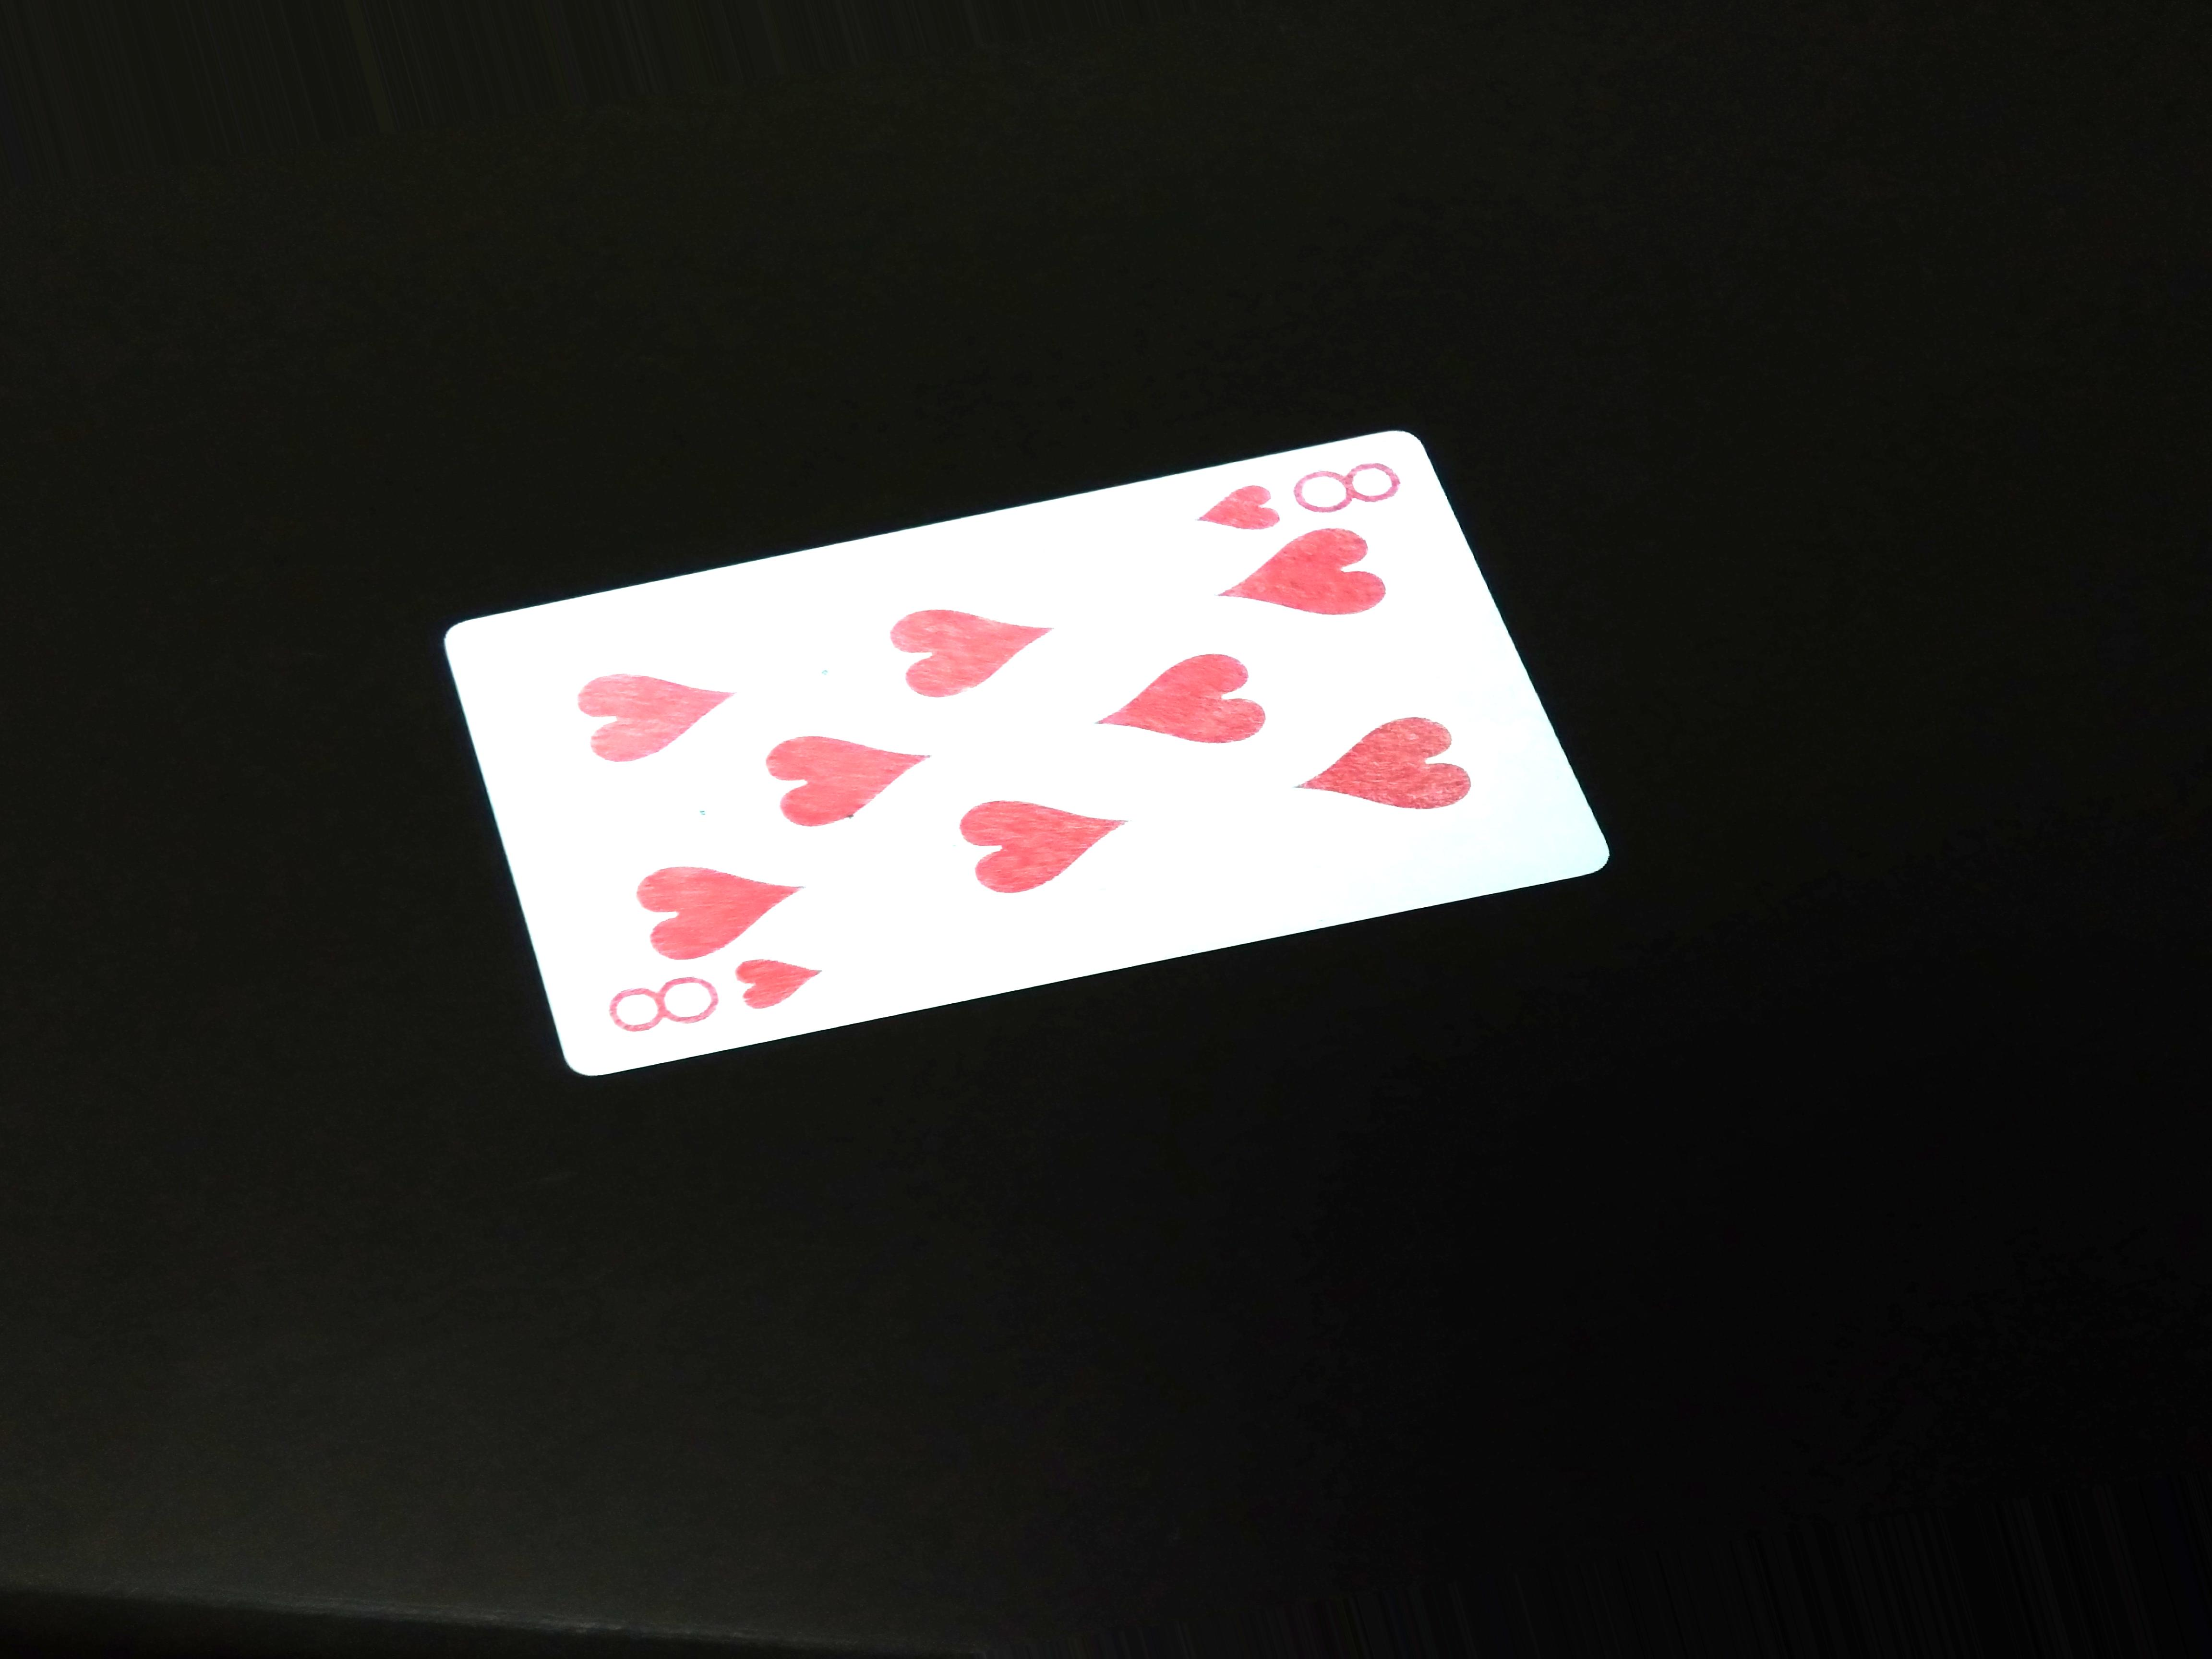8H: (585, 957, 817, 1033)
